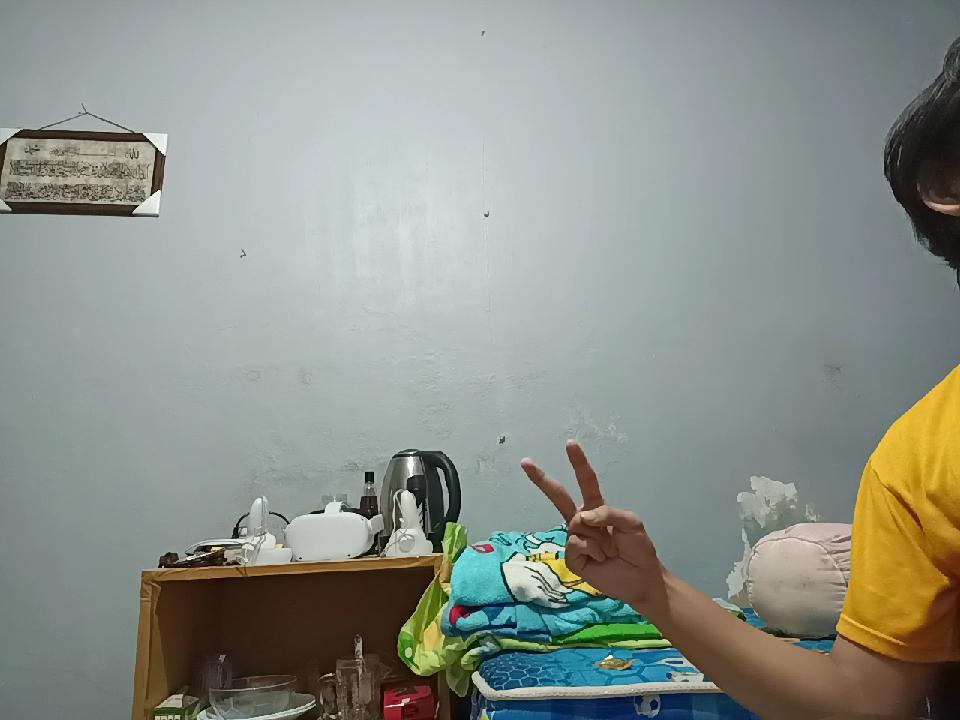scissors: (518, 416, 674, 610)
